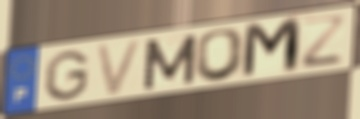G: (41, 49, 92, 103)
M: (239, 15, 304, 82), (140, 32, 200, 93)
O: (192, 26, 249, 84)
V: (93, 37, 146, 99)
Z: (299, 14, 348, 71)
